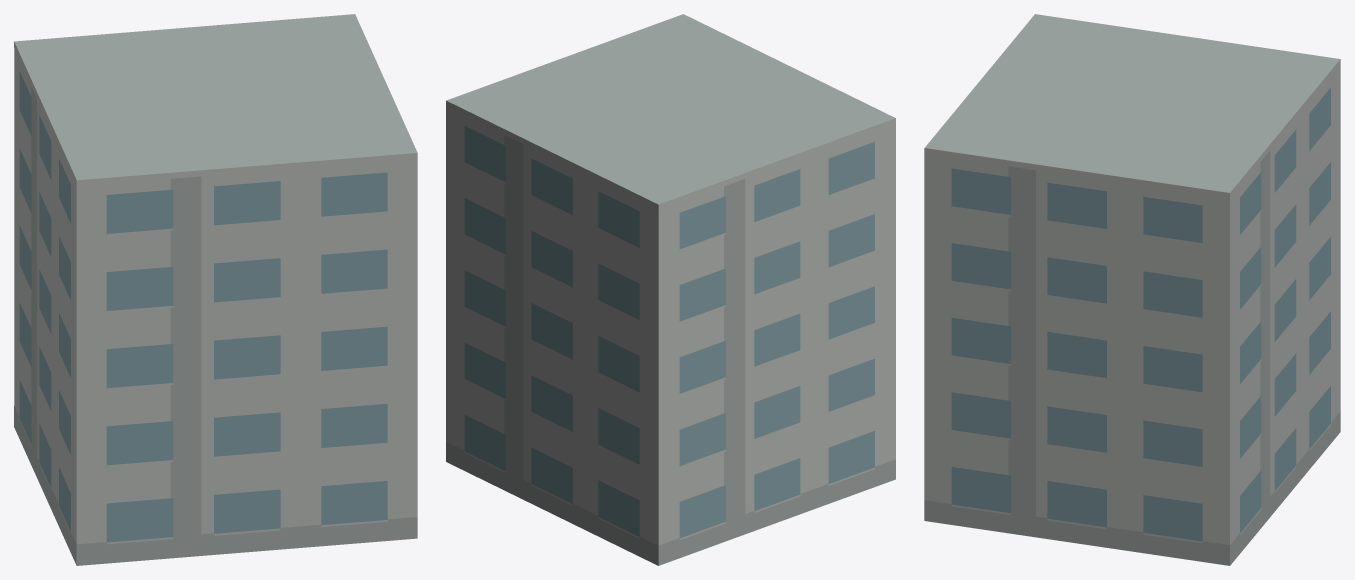
The model's file is residential-93070416-92ee-42e0-8ba8-aca50fdcc6bd.glb.
3 renders of one model, left to right at view 1: azimuth 30°, elevation 25°; view 2: azimuth 150°, elevation 25°; view 3: azimuth 270°, elevation 25°, orthographic. The views are drawn at different scales.
Visible parts, largest first — view 1: residential-93070416-92ee-42e0-8ba8-aca50fdcc6bd.tmp; view 2: residential-93070416-92ee-42e0-8ba8-aca50fdcc6bd.tmp; view 3: residential-93070416-92ee-42e0-8ba8-aca50fdcc6bd.tmp.
Boxes of the visible parts, box(x1,y1,x2,y2) form: residential-93070416-92ee-42e0-8ba8-aca50fdcc6bd.tmp: box(14, 14, 417, 565); residential-93070416-92ee-42e0-8ba8-aca50fdcc6bd.tmp: box(446, 14, 895, 565); residential-93070416-92ee-42e0-8ba8-aca50fdcc6bd.tmp: box(924, 14, 1340, 565).
Size of the model in its own units: 15.7 by 15.25 by 15.43.
